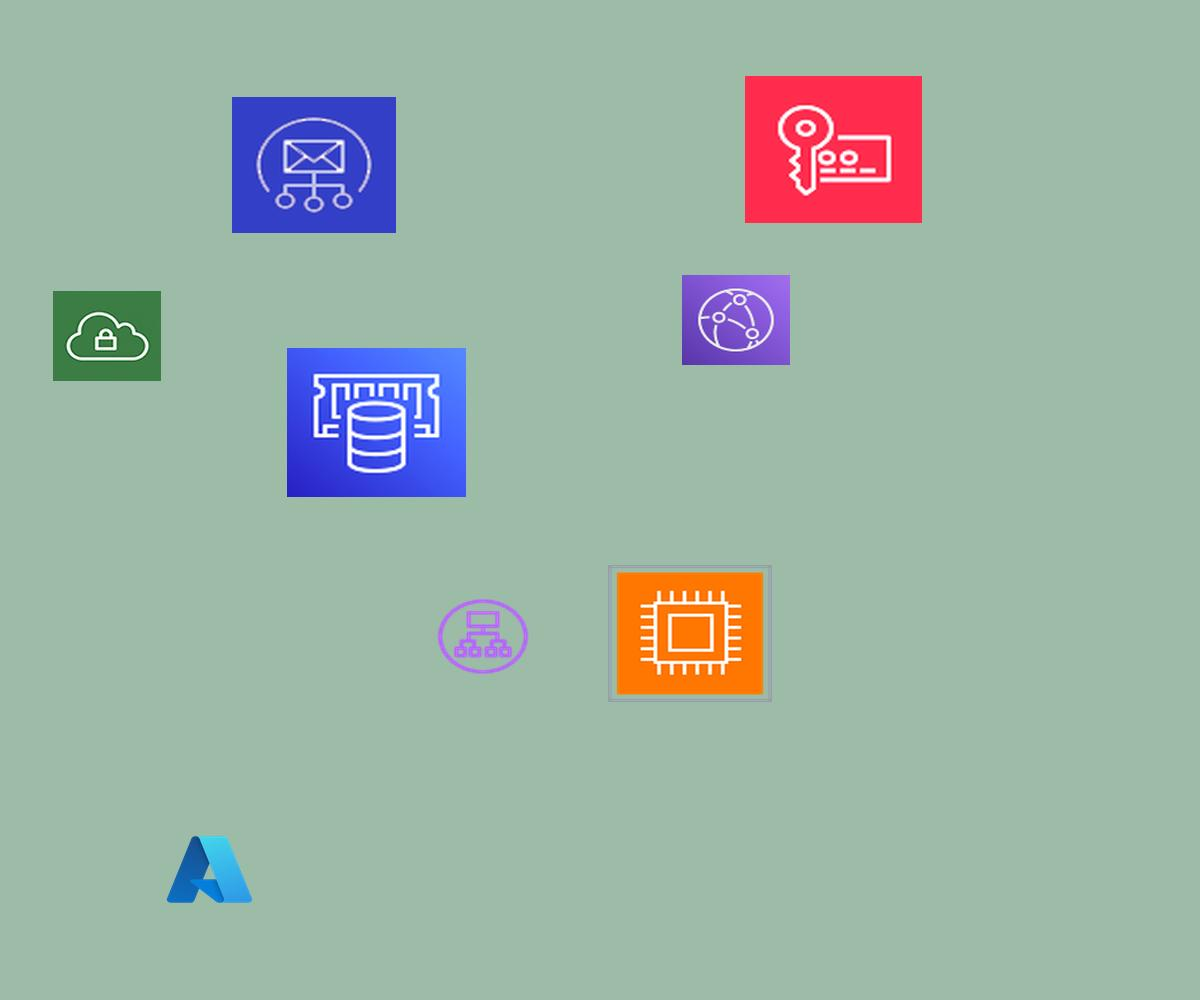AWS-Category_Compute: (608, 565, 772, 702)
AWS-CloudFront: (682, 275, 790, 365)
AWS-ElastiCache: (287, 348, 466, 497)
AWS-Key-Management-Service: (745, 76, 922, 223)
AWS-Private_vpc: (53, 291, 161, 381)
AWS-Res_Elastic-Load-Balancing_Application-Load-Balancer: (434, 596, 532, 677)
AWS-Simple-Email-Service: (232, 97, 396, 233)
Azure_services: (163, 831, 256, 908)
